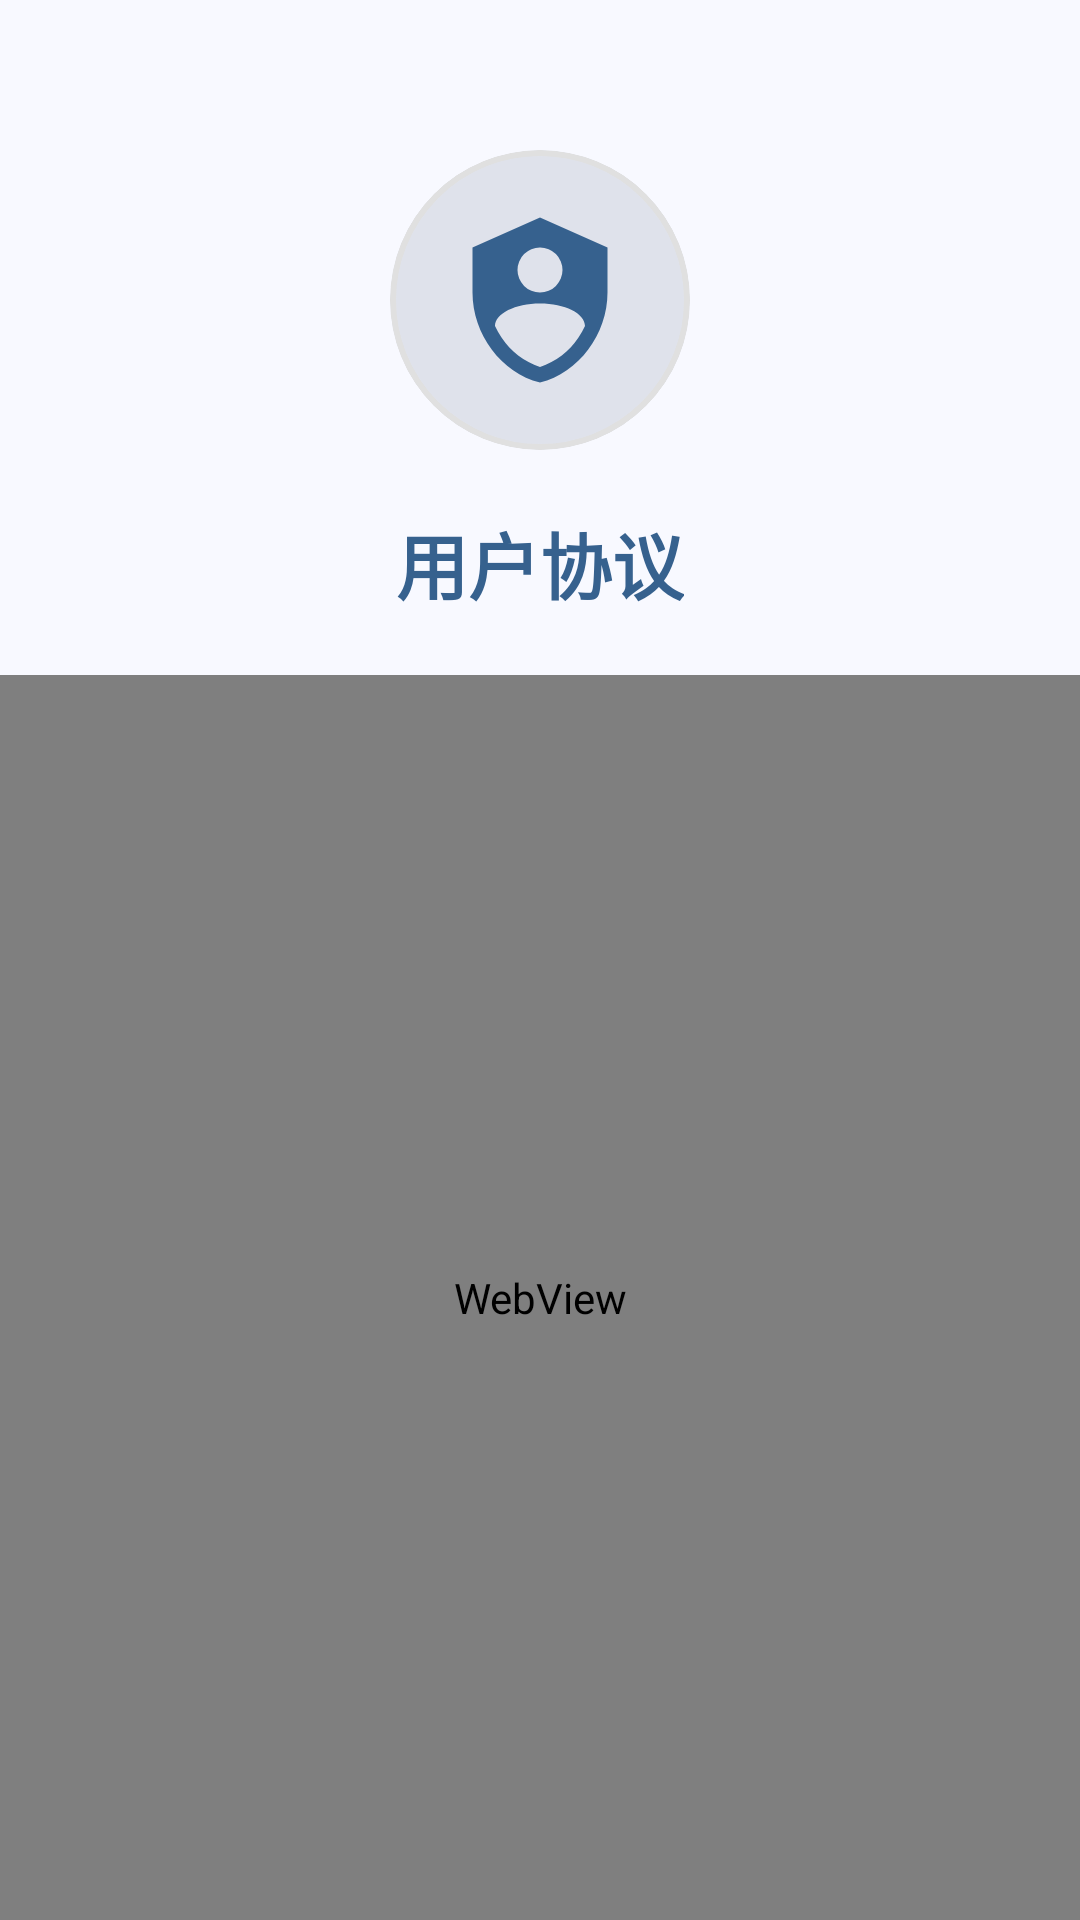

Locate icon controls on the screen. Image size 1080px x 1920px, boxes as (x1, y1, x2, y2).
shield: (472, 217, 608, 383)
